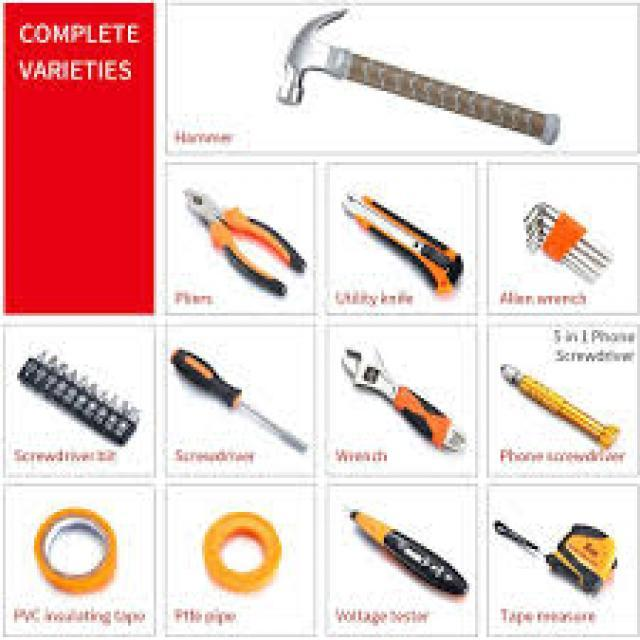hammer: (263, 4, 571, 149)
pliers: (174, 176, 313, 292)
screwdriver: (165, 340, 312, 458)
wrench: (334, 332, 470, 454)
